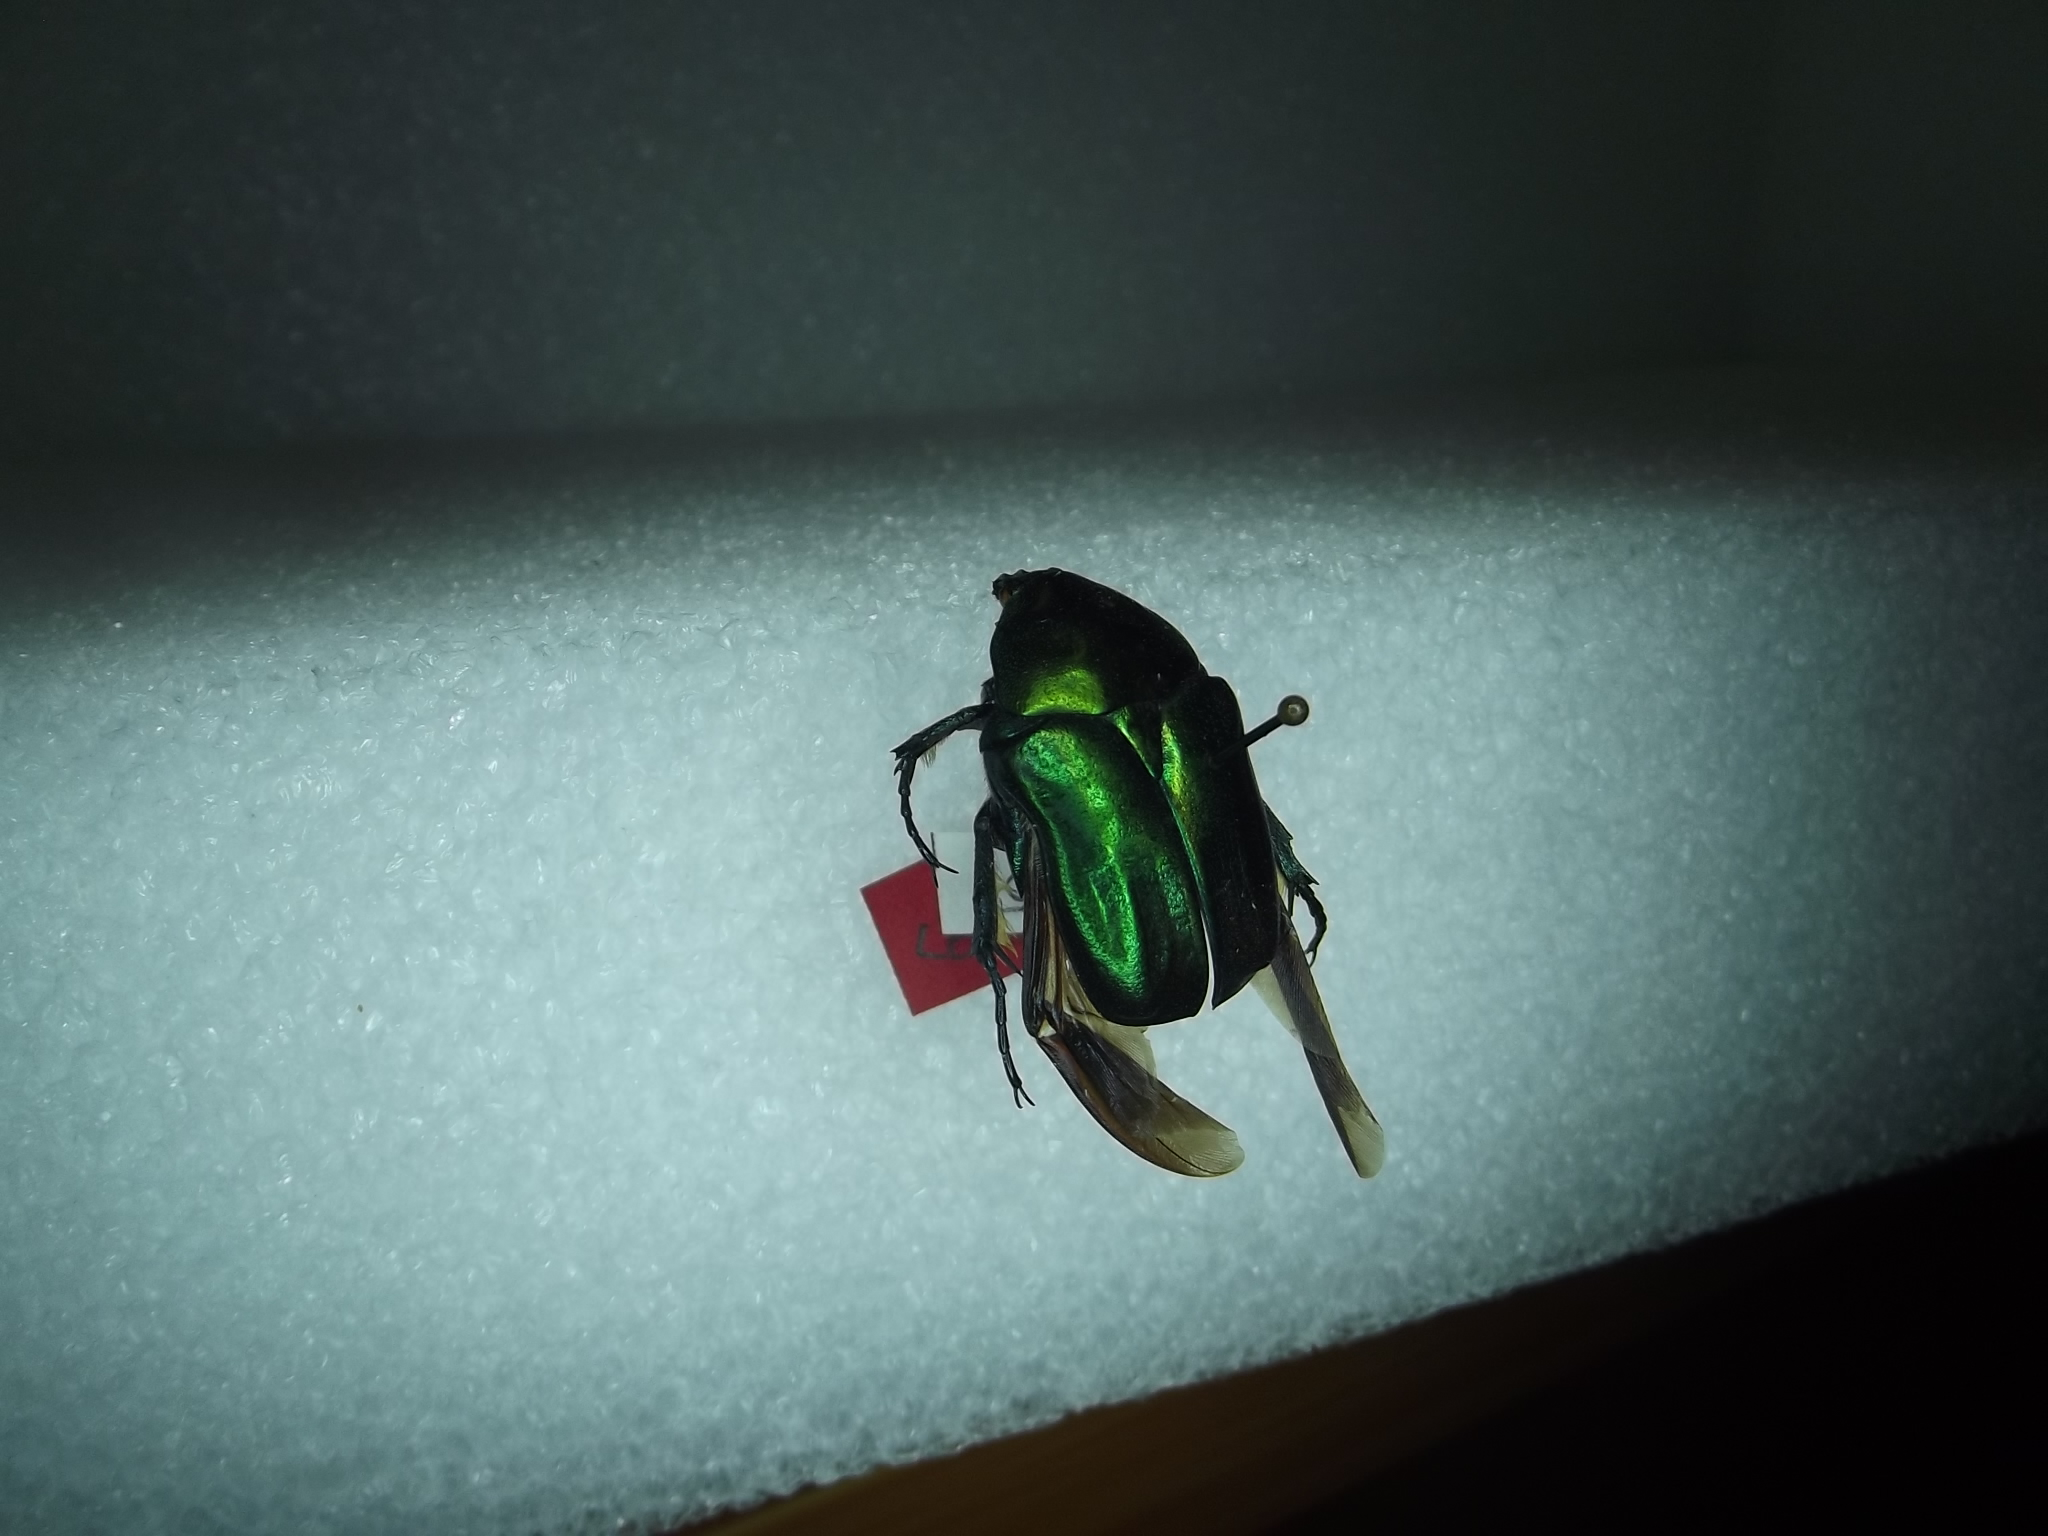Protaetia_besucheti: (892, 549, 1413, 1213)
